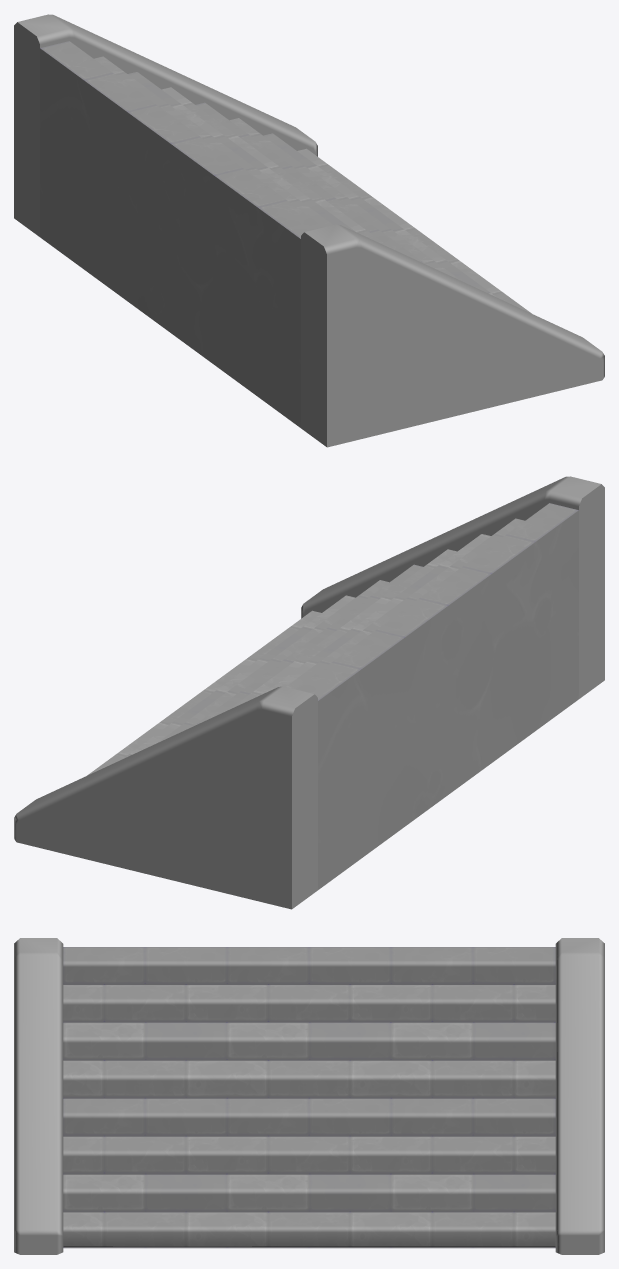
File: G_Stair_001_S1_P01.FBX
3 renders of one model, top to bottom at view 1: azimuth 30°, elevation 25°; view 2: azimuth 150°, elevation 25°; view 3: azimuth 270°, elevation 25°, orthographic. The views are drawn at different scales.
Parts seen in each view (by area): view 1: G_Stair_001_S1_P01_LOD0; view 2: G_Stair_001_S1_P01_LOD0; view 3: G_Stair_001_S1_P01_LOD0.
Part boxes in pixels (x1,y1,x2,y2): G_Stair_001_S1_P01_LOD0: (14,14,604,447); G_Stair_001_S1_P01_LOD0: (14,476,604,909); G_Stair_001_S1_P01_LOD0: (14,938,604,1254).
Size of the model in its own units: 311 by 210 by 600.
2 materials, 1 textured.
